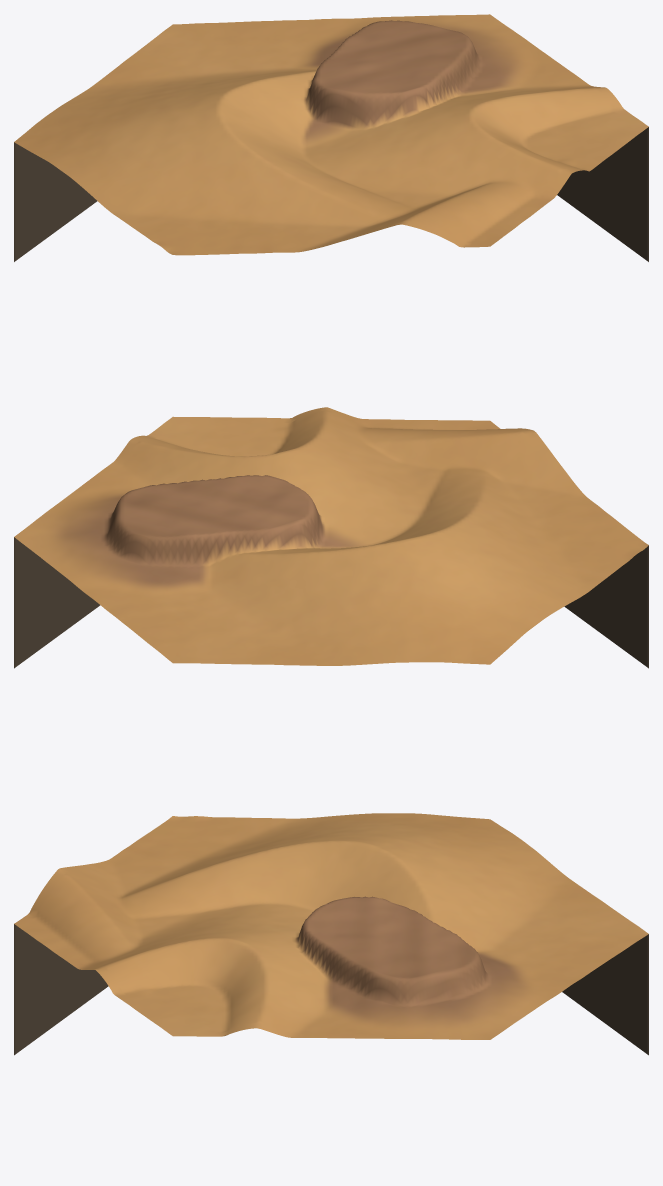
The picture shows the model from 3 angles, top to bottom: view 1: azimuth 30°, elevation 25°; view 2: azimuth 150°, elevation 25°; view 3: azimuth 270°, elevation 25°; orthographic projection.
Visible parts, largest first — view 1: terrain, hex_side_cut; view 2: terrain, hex_side_cut; view 3: terrain, hex_side_cut.
Part boxes in pixels (left/top/right/bottom): terrain: left=14, top=14, right=648, bottom=255; hex_side_cut: left=14, top=127, right=648, bottom=261; terrain: left=14, top=407, right=648, bottom=665; hex_side_cut: left=14, top=537, right=648, bottom=668; terrain: left=14, top=813, right=648, bottom=1039; hex_side_cut: left=14, top=924, right=648, bottom=1055.
Bounding box in the file's own units: 4330 × 1436 × 5000.
